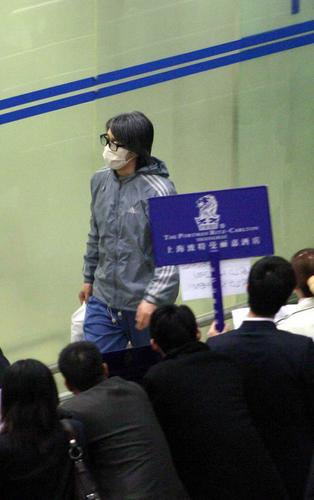face_mask: (105, 128, 127, 170)
